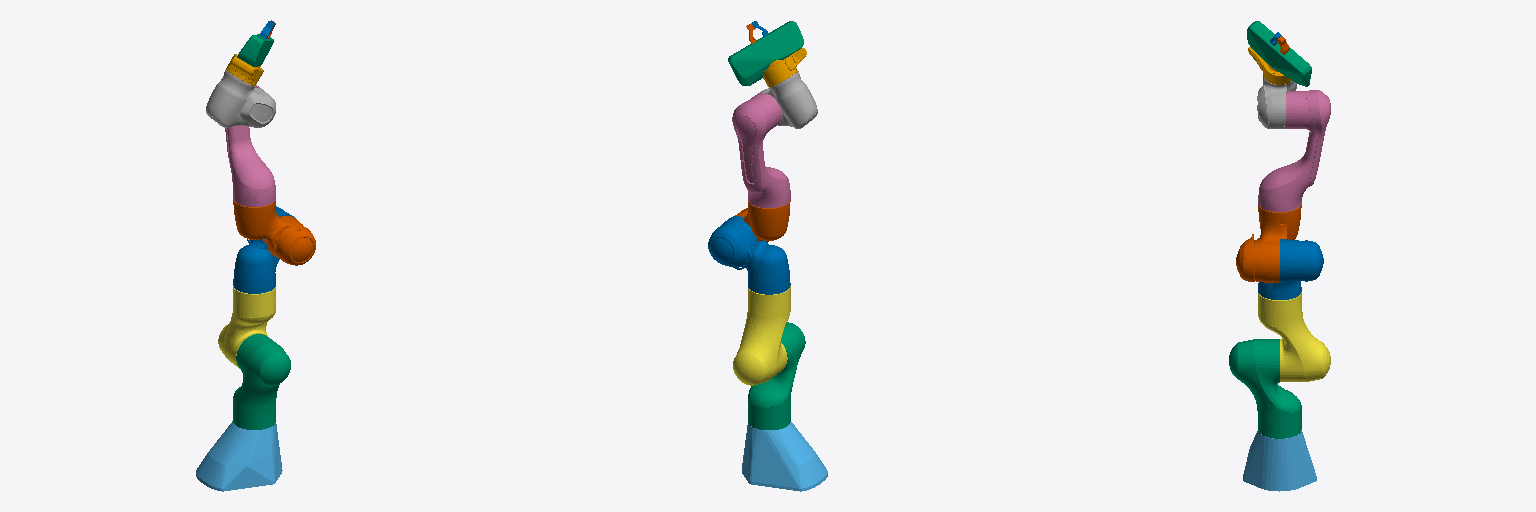
URDF robot description (fr3):
<?xml version="1.0" ?>
<!-- =================================================================================== -->
<!-- |    This document was autogenerated by xacro from /workspaces/src/franka_description/robots/fr3/fr3.urdf.xacro | -->
<!-- |    EDITING THIS FILE BY HAND IS NOT RECOMMENDED                                 | -->
<!-- =================================================================================== -->
<robot name="fr3">
  <!-- safety_distance: Minimum safety distance in [m] by which the collision volumes are expanded and which is enforced during robot motions -->
  <!-- arm_id: Namespace of the robot arm. Serves to differentiate between arms in case of multiple instances. -->
  <!-- joint_limits: description of the joint limits that comes from a YAML file. Example definition: ${xacro.load_yaml('$(find franka_description)/robots/fr3/joint_limits.yaml')} -->
  <!-- kinematics: description of the kinematics that comes from a YAML file. Example definition: ${xacro.load_yaml('$(find franka_description)/robots/fr3/kinematics.yaml')} -->
  <!-- inertials: description of the inertials that comes from a YAML file. Example definition: ${xacro.load_yaml('$(find franka_description)/robots/fr3/inertials.yaml')} -->
  <!-- dynamics: description of the dynamics that comes from a YAML file. Example definition: ${xacro.load_yaml('$(find franka_description)/robots/fr3/dynamics.yaml')} -->
  <link name="base">
      </link>
  <joint name="base_joint" type="fixed">
    <parent link="base"/>
    <child link="fr3_link0"/>
    <origin rpy="0 0 0" xyz="0 0 0"/>
  </joint>
  <!-- sub-link defining detailed meshes for collision with environment -->
  <link name="fr3_link0">
    <visual name="fr3_link0_visual">
      <geometry>
        <mesh filename="franka_description/meshes/robot_arms/fr3/visual/link0.obj"/>
      </geometry>
    </visual>
    <collision name="fr3_link0_collision">
      <geometry>
        <mesh filename="franka_description/meshes/robot_arms/fr3/collision/link0.obj"/>
      </geometry>
    </collision>
    <inertial>
      <origin rpy="0 0 0" xyz="-0.0172 0.0004 0.0745"/>
      <mass value="2.3966"/>
      <inertia ixx="0.009" ixy="0.0" ixz="0.002" iyy="0.0115" iyz="0.0" izz="0.0085"/>
    </inertial>
  </link>
  <!-- sub-link defining detailed meshes for collision with environment -->
  <link name="fr3_link1">
    <visual name="fr3_link1_visual">
      <geometry>
        <mesh filename="franka_description/meshes/robot_arms/fr3/visual/link1.obj"/>
      </geometry>
    </visual>
    <collision name="fr3_link1_collision">
      <geometry>
        <mesh filename="franka_description/meshes/robot_arms/fr3/collision/link1.obj"/>
      </geometry>
    </collision>
    <inertial>
      <origin rpy="0 0 0" xyz="0.0000004128 -0.0181251324 -0.0386035970"/>
      <mass value="2.9274653454"/>
      <inertia ixx="0.023927316485107913" ixy="1.3317903455714081e-05" ixz="-0.00011404774918616684" iyy="0.0224821613275756" iyz="-0.0019950320628240115" izz="0.006350098258530016"/>
    </inertial>
  </link>
  <joint name="fr3_joint1" type="revolute">
    <origin rpy="0 0 0" xyz="0 0 0.333"/>
    <parent link="fr3_link0"/>
    <child link="fr3_link1"/>
    <axis xyz="0 0 1"/>
    <limit effort="87.0" lower="-2.7437" upper="2.7437" velocity="2.62"/>
    <safety_controller k_position="100.0" k_velocity="40.0" soft_lower_limit="-2.7437" soft_upper_limit="2.7437"/>
    <dynamics D="1" K="7000" damping="0.003" friction="0.2" mu_coulomb="0" mu_viscous="16"/>
  </joint>
  <!-- sub-link defining detailed meshes for collision with environment -->
  <link name="fr3_link2">
    <visual name="fr3_link2_visual">
      <geometry>
        <mesh filename="franka_description/meshes/robot_arms/fr3/visual/link2.obj"/>
      </geometry>
    </visual>
    <collision name="fr3_link2_collision">
      <geometry>
        <mesh filename="franka_description/meshes/robot_arms/fr3/collision/link2.obj"/>
      </geometry>
    </collision>
    <inertial>
      <origin rpy="0 0 0" xyz="0.0031828864 -0.0743221644 0.0088146084"/>
      <mass value="2.9355370338"/>
      <inertia ixx="0.041938946257609425" ixy="0.00020257331521090626" ixz="0.004077784227179924" iyy="0.02514514885014724" iyz="-0.0042252158006570156" izz="0.06170214472888839"/>
    </inertial>
  </link>
  <joint name="fr3_joint2" type="revolute">
    <origin rpy="-1.570796326794897 0 0" xyz="0 0 0"/>
    <parent link="fr3_link1"/>
    <child link="fr3_link2"/>
    <axis xyz="0 0 1"/>
    <limit effort="87.0" lower="1.57079633" upper="-1.57079633" velocity="2.62"/>
    <safety_controller k_position="100.0" k_velocity="40.0" soft_lower_limit="-1.7837" soft_upper_limit="1.7837"/>
    <dynamics D="1" K="7000" damping="0.003" friction="0.2" mu_coulomb="0" mu_viscous="16"/>
  </joint>
  <!-- sub-link defining detailed meshes for collision with environment -->
  <link name="fr3_link3">
    <visual name="fr3_link3_visual">
      <geometry>
        <mesh filename="franka_description/meshes/robot_arms/fr3/visual/link3.obj"/>
      </geometry>
    </visual>
    <collision name="fr3_link3_collision">
      <geometry>
        <mesh filename="franka_description/meshes/robot_arms/fr3/collision/link3.obj"/>
      </geometry>
    </collision>
    <inertial>
      <origin rpy="0 0 0" xyz="0.0407015686 -0.0048200565 -0.0289730823"/>
      <mass value="2.2449013699"/>
      <inertia ixx="0.02410142547240885" ixy="0.002404694559042109" ixz="-0.002856269270114313" iyy="0.01974053266708178" iyz="-0.002104212683891874" izz="0.019044494482244823"/>
    </inertial>
  </link>
  <joint name="fr3_joint3" type="revolute">
    <origin rpy="1.570796326794897 0 0" xyz="0 -0.316 0"/>
    <parent link="fr3_link2"/>
    <child link="fr3_link3"/>
    <axis xyz="0 0 1"/>
    <limit effort="87.0" lower="-2.9007" upper="2.9007" velocity="2.62"/>
    <safety_controller k_position="100.0" k_velocity="40.0" soft_lower_limit="-2.9007" soft_upper_limit="2.9007"/>
    <dynamics D="1" K="7000" damping="0.003" friction="0.2" mu_coulomb="0" mu_viscous="16"/>
  </joint>
  <!-- sub-link defining detailed meshes for collision with environment -->
  <link name="fr3_link4">
    <visual name="fr3_link4_visual">
      <geometry>
        <mesh filename="franka_description/meshes/robot_arms/fr3/visual/link4.obj"/>
      </geometry>
    </visual>
    <collision name="fr3_link4_collision">
      <geometry>
        <mesh filename="franka_description/meshes/robot_arms/fr3/collision/link4.obj"/>
      </geometry>
    </collision>
    <inertial>
      <origin rpy="0 0 0" xyz="-0.0459100965 0.0630492960 -0.0085187868"/>
      <mass value="2.6155955791"/>
      <inertia ixx="0.03452998321913202" ixy="0.01322552265982813" ixz="0.01015142998484113" iyy="0.028881621933049058" iyz="-0.0009762833870704552" izz="0.04125471171146641"/>
    </inertial>
  </link>
  <joint name="fr3_joint4" type="revolute">
    <origin rpy="1.570796326794897 0 0" xyz="0.0825 0 0"/>
    <parent link="fr3_link3"/>
    <child link="fr3_link4"/>
    <axis xyz="0 0 1"/>
    <limit effort="87.0" lower="3.0421" upper="-0.1518" velocity="2.62"/>
    <safety_controller k_position="100.0" k_velocity="40.0" soft_lower_limit="3.0421" soft_upper_limit="-0.1518"/>
    <dynamics D="1" K="7000" damping="0.003" friction="0.2" mu_coulomb="0" mu_viscous="16"/>
  </joint>
  <!-- sub-link defining detailed meshes for collision with environment -->
  <link name="fr3_link5">
    <visual name="fr3_link5_visual">
      <geometry>
        <mesh filename="franka_description/meshes/robot_arms/fr3/visual/link5.obj"/>
      </geometry>
    </visual>
    <collision name="fr3_link5_collision">
      <geometry>
        <mesh filename="franka_description/meshes/robot_arms/fr3/collision/link5.obj"/>
      </geometry>
    </collision>
    <inertial>
      <origin rpy="0 0 0" xyz="-0.0016039605 0.0292536262 -0.0972965990"/>
      <mass value="2.3271207594"/>
      <inertia ixx="0.051610278463662895" ixy="-0.005715173387783472" ixz="-0.0035673167625872135" iyy="0.04787729713371481" iyz="0.010673985108535986" izz="0.016423625579357254"/>
    </inertial>
  </link>
  <joint name="fr3_joint5" type="revolute">
    <origin rpy="-1.570796326794897 0 0" xyz="-0.0825 0.384 0"/>
    <parent link="fr3_link4"/>
    <child link="fr3_link5"/>
    <axis xyz="0 0 1"/>
    <limit effort="12.0" lower="-2.8065" upper="2.8065" velocity="5.26"/>
    <safety_controller k_position="100.0" k_velocity="40.0" soft_lower_limit="-2.8065" soft_upper_limit="2.8065"/>
    <dynamics D="1" K="7000" damping="0.003" friction="0.2" mu_coulomb="0" mu_viscous="16"/>
  </joint>
  <!-- sub-link defining detailed meshes for collision with environment -->
  <link name="fr3_link6">
    <visual name="fr3_link6_visual">
      <geometry>
        <mesh filename="franka_description/meshes/robot_arms/fr3/visual/link6.obj"/>
      </geometry>
    </visual>
    <collision name="fr3_link6_collision">
      <geometry>
        <mesh filename="franka_description/meshes/robot_arms/fr3/collision/link6.obj"/>
      </geometry>
    </collision>
    <inertial>
      <origin rpy="0 0 0" xyz="0.0597131221 -0.0410294666 -0.0101692726"/>
      <mass value="1.8170376524"/>
      <inertia ixx="0.005412333594383447" ixy="0.006193456360285834" ixz="0.0014219289306117652" iyy="0.014058329545509979" iyz="-0.0013140753741120031" izz="0.016080817924212554"/>
    </inertial>
  </link>
  <joint name="fr3_joint6" type="revolute">
    <origin rpy="1.570796326794897 0 0" xyz="0 0 0"/>
    <parent link="fr3_link5"/>
    <child link="fr3_link6"/>
    <axis xyz="0 0 1"/>
    <limit effort="12.0" lower="0.5445" upper="4.5169" velocity="4.18"/>
    <safety_controller k_position="100.0" k_velocity="40.0" soft_lower_limit="0.5445" soft_upper_limit="4.5169"/>
    <dynamics D="1" K="7000" damping="0.003" friction="0.2" mu_coulomb="0" mu_viscous="16"/>
  </joint>
  <!-- sub-link defining detailed meshes for collision with environment -->
  <link name="fr3_link7">
    <visual name="fr3_link7_visual">
      <geometry>
        <mesh filename="franka_description/meshes/robot_arms/fr3/visual/link7.obj"/>
      </geometry>
    </visual>
    <collision name="fr3_link7_collision">
      <geometry>
        <mesh filename="franka_description/meshes/robot_arms/fr3/collision/link7.obj"/>
      </geometry>
    </collision>
    <inertial>
      <origin rpy="0 0 0" xyz="0.0045225817 0.0086261921 -0.0161633251"/>
      <mass value="0.6271432862"/>
      <inertia ixx="0.00021092389150104718" ixy="-2.433299114461931e-05" ixz="4.564480393778983e-05" iyy="0.00017718568002411474" iyz="8.744070223226438e-05" izz="5.993190599659971e-05"/>
    </inertial>
  </link>
  <joint name="fr3_joint7" type="revolute">
    <origin rpy="1.570796326794897 0 0" xyz="0.088 0 0"/>
    <parent link="fr3_link6"/>
    <child link="fr3_link7"/>
    <axis xyz="0 0 1"/>
    <limit effort="12.0" lower="-3.0159" upper="3.0159" velocity="5.26"/>
    <safety_controller k_position="100.0" k_velocity="40.0" soft_lower_limit="-3.0159" soft_upper_limit="3.0159"/>
    <dynamics D="1" K="7000" damping="0.003" friction="0.2" mu_coulomb="0" mu_viscous="16"/>
  </joint>
  <link name="fr3_link8"/>
  <joint name="fr3_joint8" type="fixed">
    <origin rpy="0 0 0" xyz="0 0 0.107"/>
    <parent link="fr3_link7"/>
    <child link="fr3_link8"/>
  </joint>
  <joint name="fr3_hand_joint" type="fixed">
    <parent link="fr3_link8"/>
    <child link="fr3_hand"/>
    <origin rpy="0 0 -0.7853981633974483" xyz="0 0 0"/>
  </joint>
  <!-- sub-link defining detailed meshes for collision with environment -->
  <link name="fr3_hand">
    <visual name="fr3_hand_visual">
      <geometry>
        <mesh filename="franka_description/meshes/robot_ee/franka_hand_white/visual/hand.obj"/>
      </geometry>
    </visual>
    <collision name="fr3_hand_collision">
      <geometry>
        <mesh filename="franka_description/meshes/robot_ee/franka_hand_white/collision/hand.obj"/>
      </geometry>
    </collision>
    <inertial>
      <origin rpy="0 0 0" xyz="-0.01 0 0.03"/>
      <mass value="0.73"/>
      <inertia ixx="0.001" ixy="0" ixz="0" iyy="0.0025" iyz="0" izz="0.0017"/>
    </inertial>
  </link>
  <!-- Define the hand_tcp frame -->
  <link name="fr3_hand_tcp"/>
  <joint name="fr3_hand_tcp_joint" type="fixed">
    <origin rpy="0 0 0" xyz="0 0 0.1034"/>
    <parent link="fr3_hand"/>
    <child link="fr3_hand_tcp"/>
  </joint>
  <link name="fr3_leftfinger">
    <visual name="fr3_leftfinger_visual">
      <geometry>
        <mesh filename="franka_description/meshes/robot_ee/franka_hand_white/visual/finger.obj"/>
      </geometry>
    </visual>
    <!-- screw mount -->
    <collision>
      <origin rpy="0 0 0" xyz="0 18.5e-3 11e-3"/>
      <geometry>
        <box size="22e-3 15e-3 20e-3"/>
      </geometry>
    </collision>
    <!-- cartriage sledge -->
    <collision>
      <origin rpy="0 0 0" xyz="0 6.8e-3 2.2e-3"/>
      <geometry>
        <box size="22e-3 8.8e-3 3.8e-3"/>
      </geometry>
    </collision>
    <!-- diagonal finger -->
    <collision>
      <origin rpy="0.5235987755982988 0 0" xyz="0 15.9e-3 28.35e-3"/>
      <geometry>
        <box size="17.5e-3 7e-3 23.5e-3"/>
      </geometry>
    </collision>
    <!-- rubber tip with which to grasp -->
    <collision>
      <origin rpy="0 0 0" xyz="0 7.58e-3 45.25e-3"/>
      <geometry>
        <box size="17.5e-3 15.2e-3 18.5e-3"/>
      </geometry>
    </collision>
  </link>
  <link name="fr3_rightfinger">
    <visual name="fr3_rightfinger_visual">
      <origin rpy="0 0 3.141592653589793" xyz="0 0 0"/>
      <geometry>
        <mesh filename="franka_description/meshes/robot_ee/franka_hand_white/visual/finger.obj"/>
      </geometry>
    </visual>
    <!-- screw mount -->
    <collision>
      <origin rpy="0 0 0" xyz="0 -18.5e-3 11e-3"/>
      <geometry>
        <box size="22e-3 15e-3 20e-3"/>
      </geometry>
    </collision>
    <!-- cartriage sledge -->
    <collision>
      <origin rpy="0 0 0" xyz="0 -6.8e-3 2.2e-3"/>
      <geometry>
        <box size="22e-3 8.8e-3 3.8e-3"/>
      </geometry>
    </collision>
    <!-- diagonal finger -->
    <collision>
      <origin rpy="-0.5235987755982988 0 0" xyz="0 -15.9e-3 28.35e-3"/>
      <geometry>
        <box size="17.5e-3 7e-3 23.5e-3"/>
      </geometry>
    </collision>
    <!-- rubber tip with which to grasp -->
    <collision>
      <origin rpy="0 0 0" xyz="0 -7.58e-3 45.25e-3"/>
      <geometry>
        <box size="17.5e-3 15.2e-3 18.5e-3"/>
      </geometry>
    </collision>
  </link>
  <joint name="fr3_finger_joint1" type="prismatic">
    <parent link="fr3_hand"/>
    <child link="fr3_leftfinger"/>
    <origin rpy="0 0 0" xyz="0 0 0.0584"/>
    <axis xyz="0 1 0"/>
    <limit effort="100" lower="0.0" upper="0.04" velocity="0.2"/>
    <dynamics damping="0.3"/>
  </joint>
  <joint name="fr3_finger_joint2" type="prismatic">
    <parent link="fr3_hand"/>
    <child link="fr3_rightfinger"/>
    <origin rpy="0 0 0" xyz="0 0 0.0584"/>
    <axis xyz="0 -1 0"/>
    <limit effort="100" lower="0.0" upper="0.04" velocity="0.2"/>
    <mimic joint="fr3_finger_joint1"/>
    <dynamics damping="0.3"/>
  </joint>
</robot>

--- Render facts (derived) ---
3 views of the same robot in one strip: view 1: azimuth 30°, elevation 25°; view 2: azimuth 150°, elevation 25°; view 3: azimuth 270°, elevation 25° (orthographic).
Model fr3 with 14 links and 13 joints (7 revolute, 2 prismatic, 4 fixed), rooted at base, posed all joints at 0 but 1 set to mid-range because 0 is outside their limits (fr3_joint6 = 2.53).
Visible links, largest first — view 1: fr3_link0, fr3_link1, fr3_link4, fr3_link5, fr3_link6, fr3_link2, fr3_link3, fr3_hand, fr3_link7; view 2: fr3_link0, fr3_link5, fr3_link2, fr3_link3, fr3_link1, fr3_hand, fr3_link6, fr3_link4, fr3_link7; view 3: fr3_link5, fr3_link1, fr3_link2, fr3_link0, fr3_link4, fr3_link3, fr3_hand, fr3_link6.
Link boxes in pixels (bbox=[...]): fr3_link0: bbox=[196, 421, 282, 491]; fr3_link1: bbox=[233, 334, 290, 429]; fr3_link4: bbox=[233, 199, 315, 265]; fr3_link5: bbox=[225, 85, 275, 206]; fr3_link6: bbox=[206, 70, 275, 127]; fr3_link2: bbox=[218, 286, 275, 368]; fr3_link3: bbox=[233, 206, 295, 293]; fr3_hand: bbox=[237, 34, 273, 66]; fr3_link7: bbox=[226, 54, 263, 85]; fr3_link0: bbox=[742, 422, 827, 491]; fr3_link5: bbox=[732, 93, 790, 207]; fr3_link2: bbox=[733, 286, 790, 385]; fr3_link3: bbox=[708, 216, 790, 294]; fr3_link1: bbox=[748, 322, 805, 429]; fr3_hand: bbox=[728, 21, 803, 85]; fr3_link6: bbox=[758, 71, 817, 128]; fr3_link4: bbox=[733, 200, 790, 242]; fr3_link7: bbox=[763, 48, 806, 87]; fr3_link5: bbox=[1258, 90, 1330, 211]; fr3_link1: bbox=[1229, 339, 1301, 438]; fr3_link2: bbox=[1258, 292, 1330, 381]; fr3_link0: bbox=[1243, 430, 1316, 491]; fr3_link4: bbox=[1236, 204, 1301, 282]; fr3_link3: bbox=[1258, 239, 1323, 299]; fr3_hand: bbox=[1247, 21, 1311, 86]; fr3_link6: bbox=[1257, 75, 1296, 128].
Bounding box of the posed robot: 0.2916 × 0.2593 × 1.27 m (x, y, z).
11 mesh visuals loaded from 10 distinct referenced files (10 OBJ).